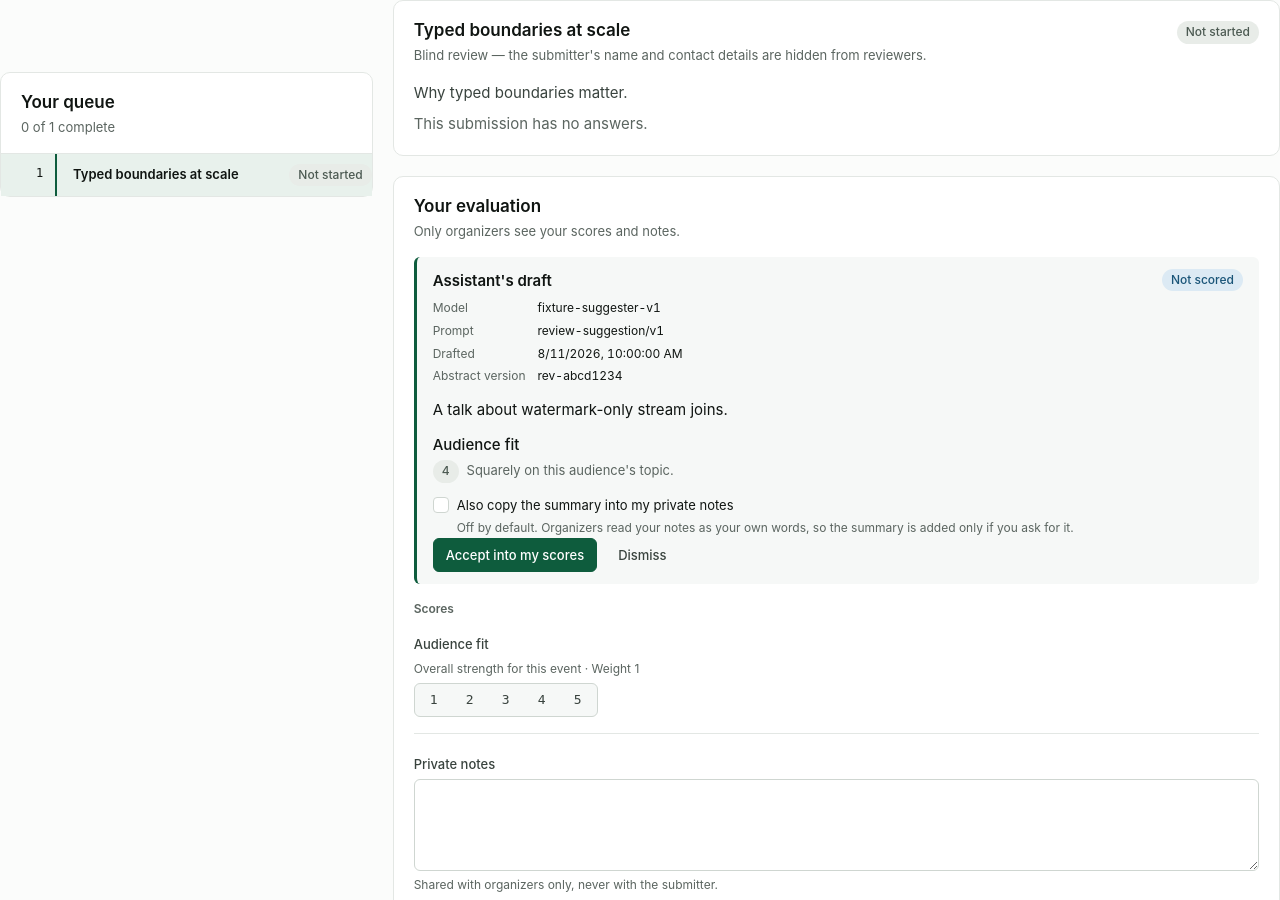
Test: the assistant's draft › says what a dismissal does and does not record
Click the button "Dismiss" at [642, 555], box [605,538,680,572]
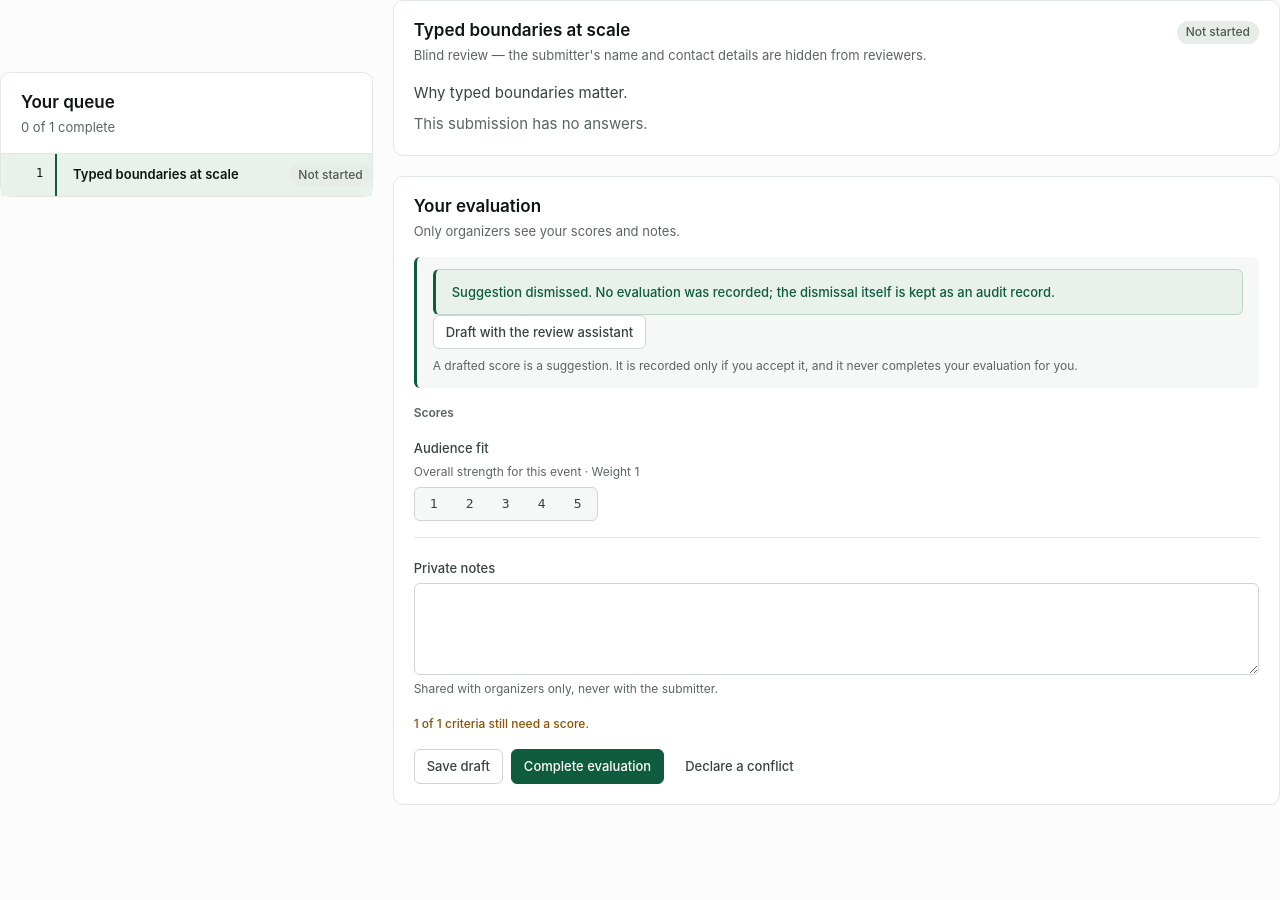
Expected: the text "kept as an audit record" is shown, [452,284,1055,300]
